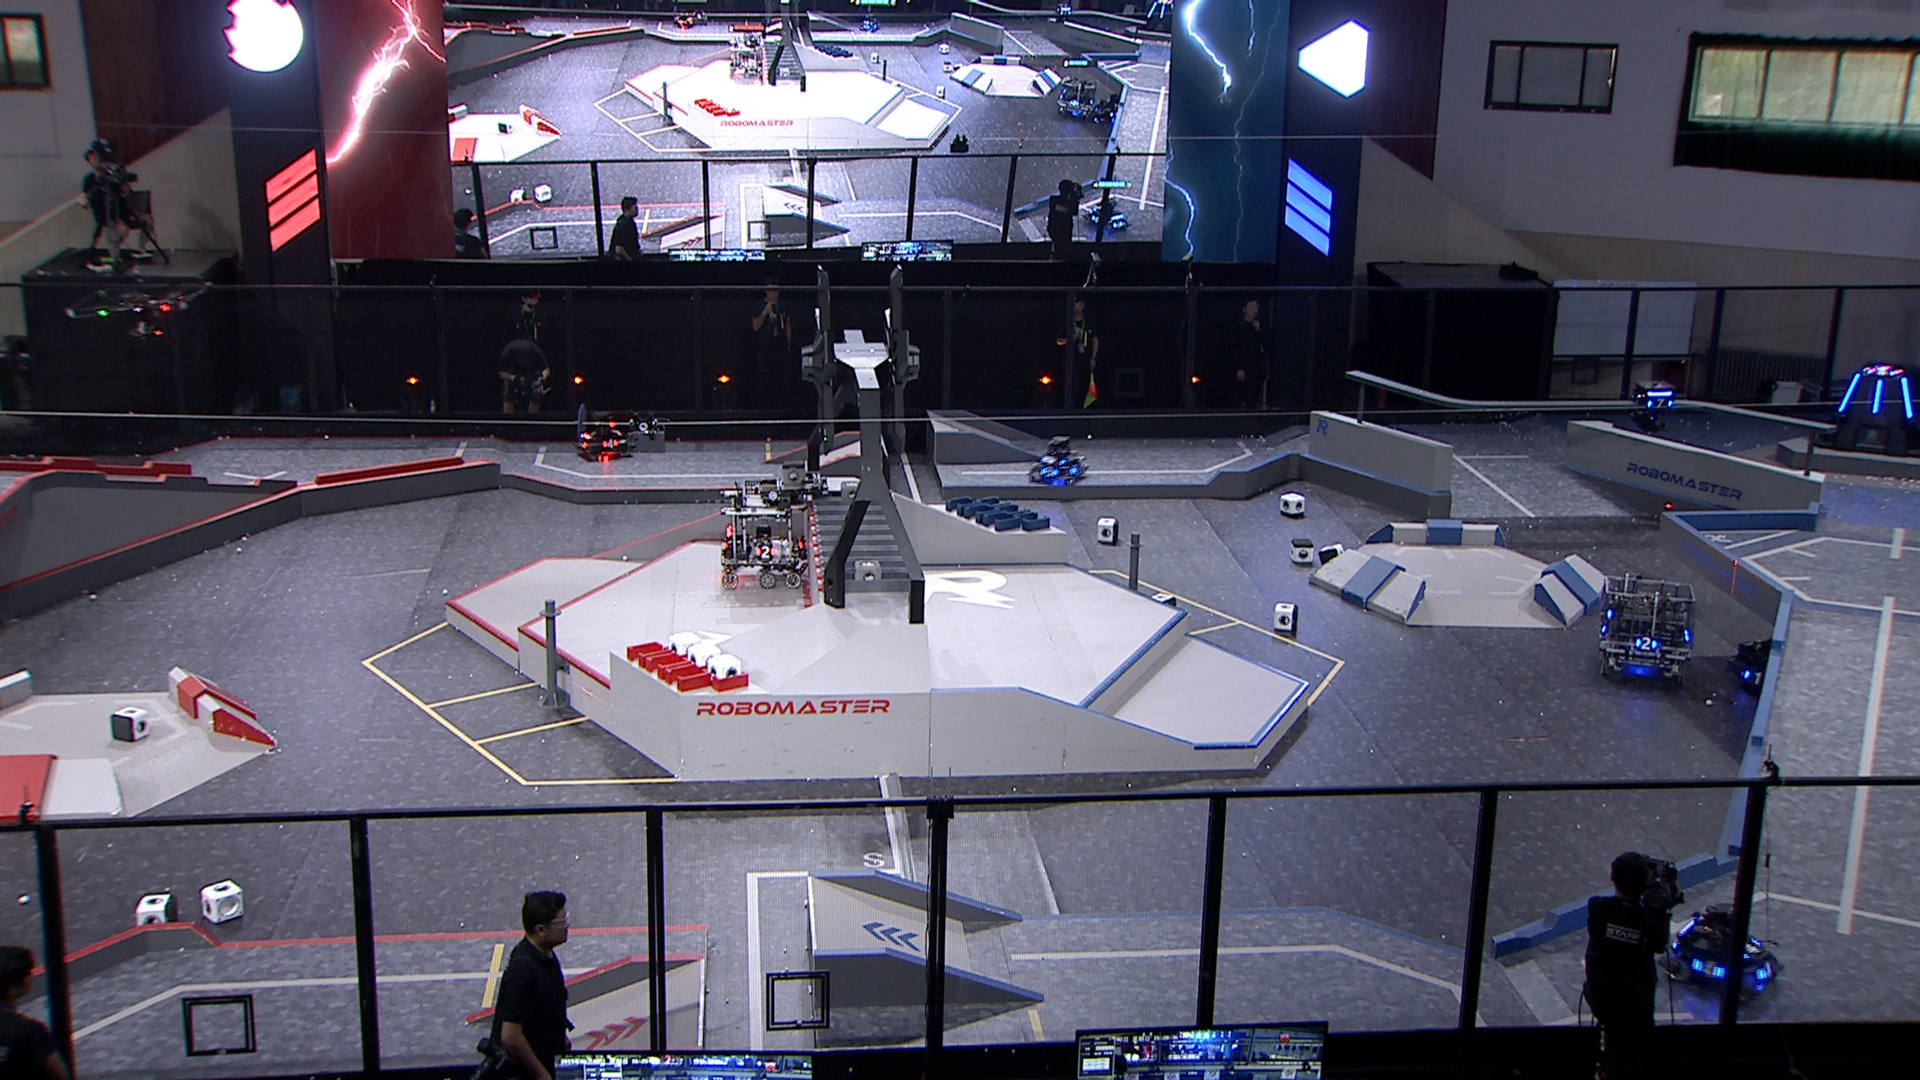armor: (1837, 372, 1863, 415), (1899, 377, 1917, 422), (1691, 959, 1727, 978), (1741, 936, 1764, 960), (1873, 378, 1884, 415), (1633, 636, 1660, 651), (1738, 669, 1766, 684), (1756, 963, 1776, 982), (756, 546, 779, 560), (1038, 465, 1060, 480), (1644, 398, 1671, 410), (600, 439, 621, 451), (1040, 456, 1067, 465), (578, 440, 591, 451)
base: (1808, 360, 1920, 458)
car: (1660, 898, 1789, 1004), (1593, 572, 1702, 684), (716, 469, 812, 591), (1727, 626, 1828, 708), (1027, 434, 1087, 488), (574, 410, 636, 462)
ignore: (1054, 76, 1100, 117), (724, 33, 765, 78), (1084, 196, 1131, 233), (1088, 92, 1121, 124), (1865, 367, 1902, 376)
watcher: (1627, 378, 1681, 434)
